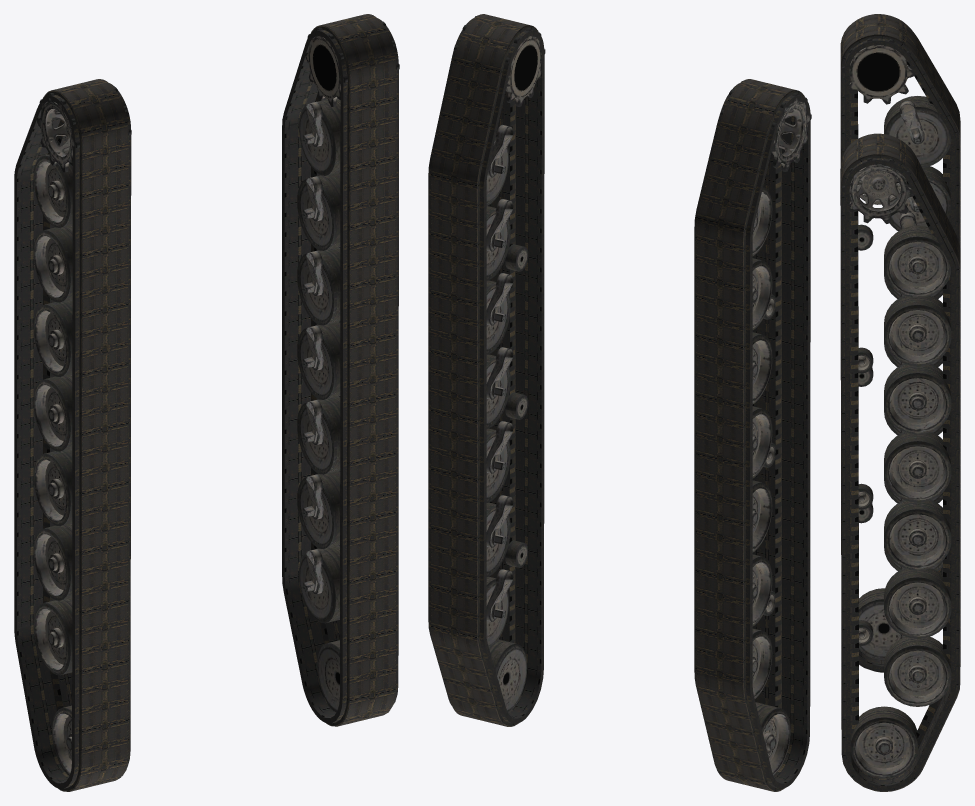
The model's file is Chassis.glb.
3 views of the same model, side by side, from view 1: azimuth 30°, elevation 25°; view 2: azimuth 150°, elevation 25°; view 3: azimuth 270°, elevation 25° (orthographic). The views are drawn at different scales.
Visible parts, largest first — view 1: set_0_group_0, set_1_group_0, set_3_group_0, set_2_group_0; view 2: set_0_group_0, set_1_group_0, set_3_group_0, set_2_group_0; view 3: set_3_group_0, set_1_group_0, set_2_group_0, set_0_group_0.
Part boxes in pixels (left/top/right/bottom): set_0_group_0: left=14, top=79, right=131, bottom=791; set_1_group_0: left=282, top=14, right=398, bottom=726; set_3_group_0: left=297, top=15, right=399, bottom=712; set_2_group_0: left=33, top=87, right=131, bottom=775; set_0_group_0: left=694, top=79, right=810, bottom=791; set_1_group_0: left=428, top=14, right=544, bottom=726; set_3_group_0: left=453, top=16, right=545, bottom=712; set_2_group_0: left=720, top=81, right=811, bottom=775; set_3_group_0: left=842, top=157, right=951, bottom=778; set_1_group_0: left=840, top=133, right=960, bottom=791; set_2_group_0: left=842, top=38, right=951, bottom=660; set_0_group_0: left=840, top=14, right=960, bottom=672.
Bounding box in the file's own units: 3.48 × 7.16 × 1.22.
Materials: 4 (4 with a texture image).
